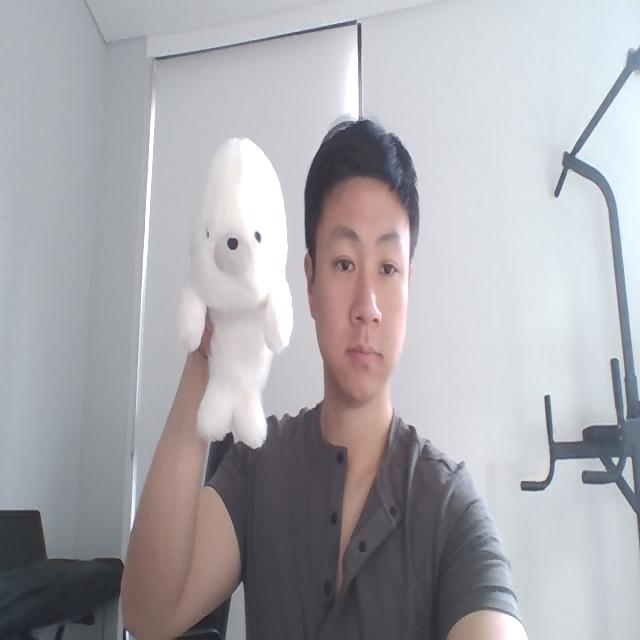seal_bb: (178, 138, 294, 450)
